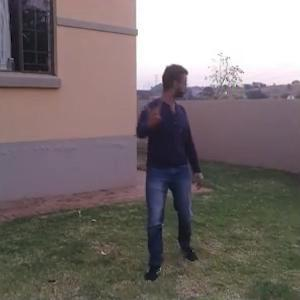takeoff-hand: (138, 96, 163, 128)
